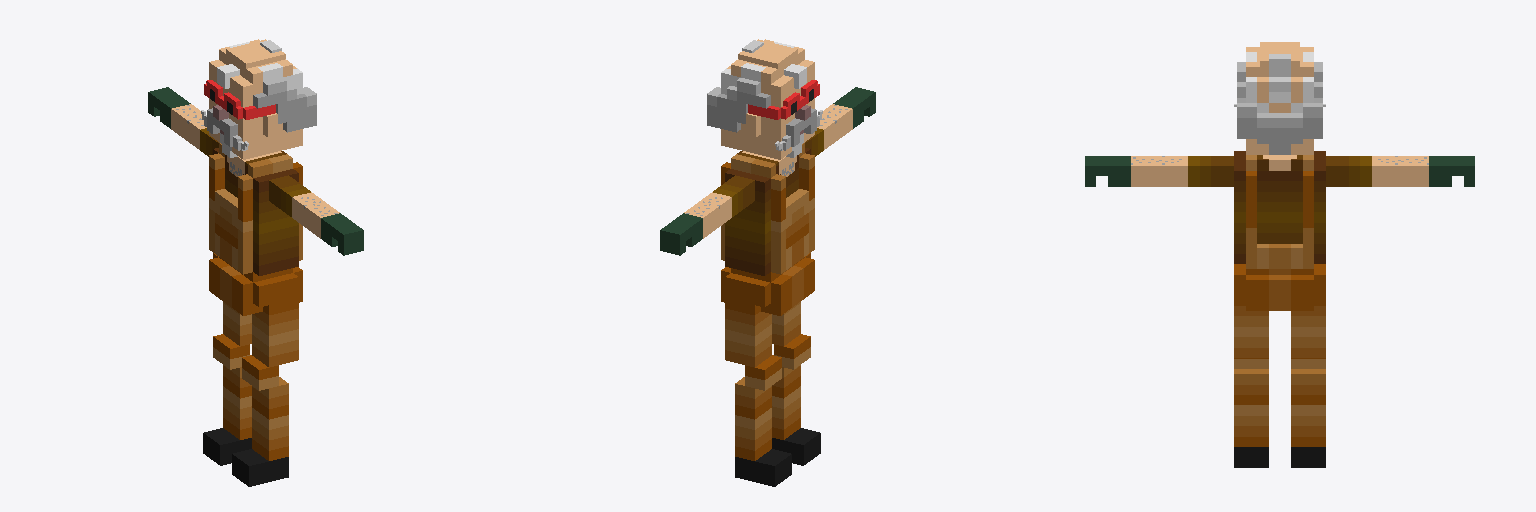
3 renders of one model, left to right at view 1: azimuth 30°, elevation 25°; view 2: azimuth 150°, elevation 25°; view 3: azimuth 270°, elevation 25°, orthographic.
Parts seen in each view (by area): view 1: object 1; view 2: object 1; view 3: object 1.
Part boxes in pixels (bbox=[...]): object 1: bbox=[148, 39, 363, 486]; object 1: bbox=[660, 39, 875, 486]; object 1: bbox=[1085, 42, 1474, 467].
Size of the model in its own units: 3.2 by 15.9 by 13.6.
1 materials, 1 textured.